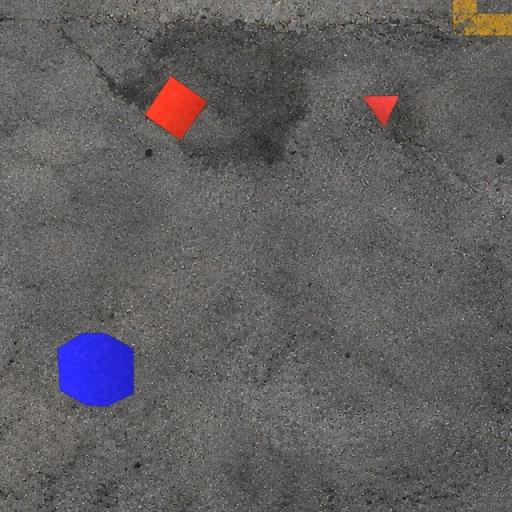RED_SQUARE: (144, 75, 209, 141)
